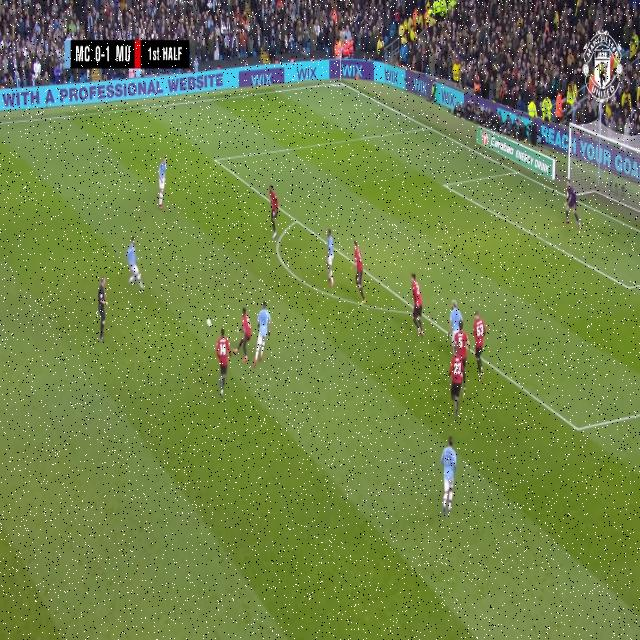Ball: (205, 310, 213, 330)
GoalKeeper: (565, 182, 583, 228), (451, 354, 464, 412), (455, 322, 466, 364)
TEAM 1: (215, 330, 234, 400), (472, 310, 487, 381), (409, 275, 424, 337), (354, 242, 367, 303), (237, 311, 252, 362), (268, 186, 278, 240)
TEAM 2: (440, 439, 458, 516), (126, 235, 147, 290), (255, 304, 273, 366), (323, 228, 337, 286), (448, 299, 466, 343), (157, 158, 166, 211)
